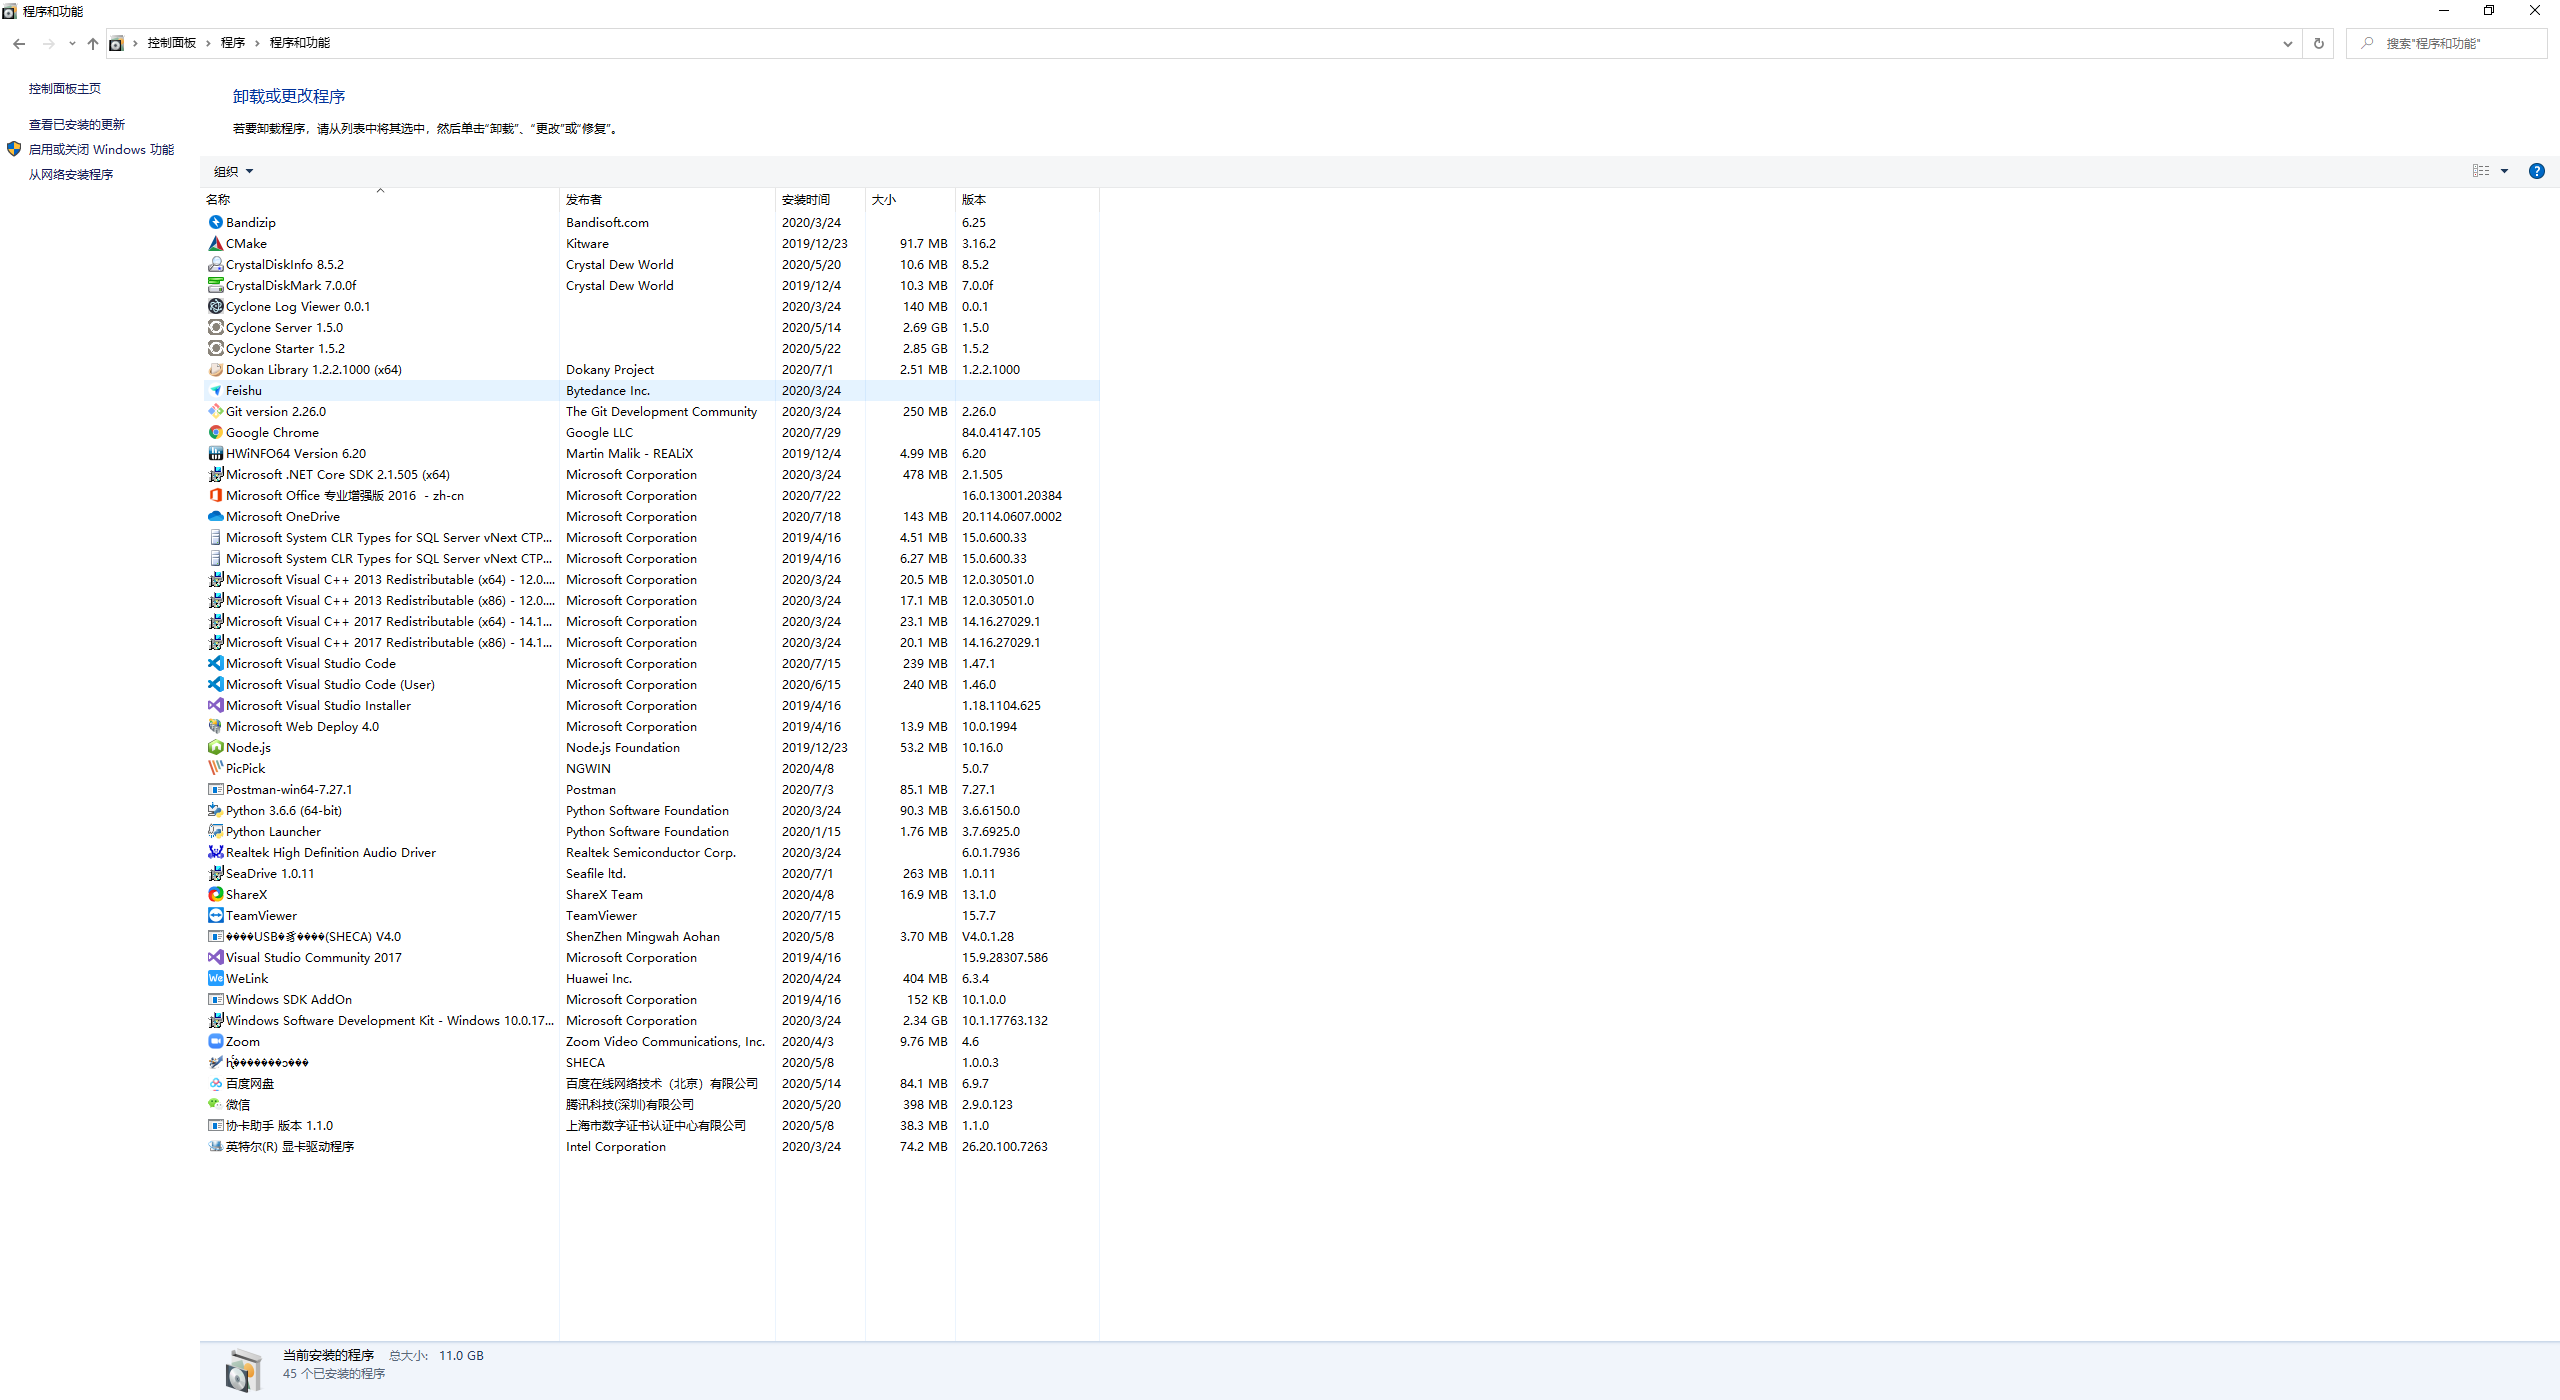character: (231, 121, 621, 138), (226, 634, 557, 650), (226, 1014, 557, 1029), (226, 529, 553, 545), (226, 552, 553, 566), (226, 572, 557, 584), (226, 595, 555, 607), (228, 616, 555, 628), (564, 1034, 769, 1052), (228, 467, 452, 483), (564, 403, 759, 421), (560, 1076, 764, 1091), (226, 655, 400, 672), (226, 847, 440, 860), (226, 490, 465, 502), (226, 362, 407, 378), (565, 1119, 746, 1134), (224, 679, 436, 691), (565, 1010, 698, 1029), (222, 991, 362, 1009), (226, 1138, 365, 1155), (564, 848, 738, 862), (560, 826, 733, 840), (231, 86, 345, 107), (564, 698, 700, 716), (565, 1097, 702, 1114), (564, 803, 733, 817), (228, 278, 362, 295), (564, 572, 698, 590), (228, 298, 376, 314), (564, 657, 710, 672), (559, 952, 705, 967), (226, 698, 414, 710), (560, 931, 722, 945), (226, 929, 409, 941), (562, 488, 703, 503), (564, 531, 705, 547), (224, 719, 383, 733), (224, 952, 405, 964), (564, 467, 703, 483), (564, 678, 700, 693), (564, 552, 698, 567), (564, 593, 698, 609), (226, 257, 347, 274), (226, 1052, 326, 1072), (564, 445, 696, 460), (565, 509, 698, 524), (29, 141, 178, 155), (226, 447, 369, 460), (564, 636, 700, 650), (564, 616, 698, 629), (564, 721, 698, 734), (226, 783, 357, 797), (226, 1117, 341, 1133), (962, 486, 1065, 503), (28, 116, 129, 133), (226, 341, 352, 355), (562, 741, 688, 755), (390, 1348, 490, 1366), (226, 321, 348, 334), (278, 1367, 384, 1383), (226, 403, 333, 419), (562, 993, 698, 1005), (226, 803, 345, 817), (278, 1345, 381, 1360), (226, 824, 326, 840), (960, 424, 1050, 441), (2386, 36, 2484, 52), (560, 214, 659, 229), (565, 259, 676, 272), (565, 278, 676, 291), (226, 510, 347, 522), (565, 886, 650, 903), (960, 510, 1065, 524), (224, 866, 315, 881), (560, 972, 660, 986), (564, 383, 652, 398), (962, 948, 1050, 964), (226, 426, 322, 440), (564, 364, 659, 378), (958, 1014, 1053, 1028), (562, 1141, 669, 1153), (269, 33, 336, 52), (960, 1140, 1052, 1153), (964, 698, 1043, 714), (776, 529, 846, 547), (21, 3, 90, 21), (776, 255, 845, 272), (564, 424, 640, 440), (960, 614, 1045, 628), (777, 507, 843, 524), (565, 909, 646, 922), (779, 447, 843, 464), (562, 867, 633, 883), (777, 424, 848, 440), (26, 81, 105, 95), (777, 1012, 846, 1028), (964, 571, 1041, 584), (28, 169, 116, 181), (226, 909, 302, 922), (960, 636, 1045, 648), (781, 698, 846, 714), (777, 888, 843, 903), (964, 552, 1029, 567), (772, 552, 845, 566), (960, 531, 1033, 545), (781, 298, 845, 314), (779, 1053, 843, 1069), (958, 1095, 1022, 1110), (779, 236, 848, 250), (779, 486, 848, 500), (779, 826, 848, 840), (896, 359, 952, 376), (896, 926, 952, 943), (781, 614, 841, 629), (779, 636, 846, 650), (895, 445, 953, 460), (960, 929, 1019, 945), (781, 845, 846, 859), (779, 971, 845, 984), (960, 803, 1026, 817), (777, 1098, 852, 1110), (145, 34, 197, 52), (896, 779, 948, 797), (562, 236, 619, 252), (777, 572, 841, 586), (783, 657, 846, 671), (958, 824, 1022, 838), (777, 741, 850, 753), (779, 403, 841, 417), (896, 886, 952, 902), (895, 1140, 950, 1155), (958, 719, 1021, 733), (960, 845, 1022, 859), (777, 1140, 848, 1152), (783, 469, 843, 483), (779, 805, 848, 817), (777, 993, 846, 1005), (900, 593, 948, 610), (900, 967, 948, 984), (779, 216, 846, 228), (564, 783, 622, 797), (781, 764, 840, 778), (226, 236, 278, 252), (898, 634, 950, 650), (896, 1074, 948, 1090), (902, 1097, 948, 1114), (896, 1119, 948, 1134), (779, 321, 845, 333), (779, 721, 845, 733), (779, 950, 845, 962), (895, 721, 952, 734), (964, 595, 1040, 605), (783, 191, 833, 207), (898, 253, 948, 269), (781, 910, 845, 922), (224, 1078, 279, 1091), (781, 279, 843, 291), (779, 384, 841, 397), (777, 1034, 840, 1047), (893, 234, 946, 248), (898, 572, 952, 586), (960, 466, 1014, 479), (962, 741, 1015, 755), (958, 993, 1012, 1007), (781, 343, 841, 355), (562, 762, 622, 774), (965, 364, 1026, 376), (226, 216, 278, 229), (900, 507, 952, 521), (902, 678, 953, 691), (896, 866, 948, 879), (779, 929, 838, 941), (777, 679, 845, 690), (777, 1076, 845, 1086), (903, 655, 948, 671), (907, 991, 952, 1007), (900, 278, 950, 291), (898, 1016, 948, 1029), (895, 740, 952, 752), (898, 617, 953, 629), (896, 531, 950, 543), (896, 1036, 950, 1048), (779, 364, 841, 374), (902, 300, 948, 314), (905, 403, 952, 417), (779, 595, 840, 605), (779, 784, 840, 795), (777, 869, 838, 879), (226, 888, 271, 902), (228, 971, 272, 984), (907, 341, 946, 357), (779, 1119, 838, 1129), (226, 741, 276, 753), (564, 1057, 614, 1069), (564, 191, 607, 205), (226, 383, 269, 397), (226, 760, 269, 774), (962, 298, 996, 316), (960, 909, 1003, 922), (960, 1055, 1003, 1069), (898, 805, 946, 817), (893, 553, 948, 564), (958, 783, 1000, 797), (902, 471, 948, 483), (962, 866, 998, 881), (898, 826, 952, 836), (960, 678, 1000, 691), (900, 324, 952, 334), (962, 888, 1000, 902), (958, 236, 1002, 248), (960, 405, 1003, 417), (226, 1036, 267, 1048), (958, 341, 995, 355), (960, 760, 996, 774), (964, 278, 998, 291), (962, 655, 996, 669), (958, 1117, 993, 1131), (958, 259, 996, 271), (958, 971, 991, 984), (958, 447, 995, 459), (958, 191, 990, 205), (960, 1076, 991, 1090), (960, 321, 995, 333), (960, 216, 990, 229), (224, 1098, 253, 1112), (221, 34, 245, 50), (205, 191, 231, 205), (958, 1034, 984, 1048), (210, 166, 238, 178), (869, 193, 896, 205)
icon: (221, 1347, 265, 1395), (107, 33, 126, 52), (203, 379, 222, 398), (9, 34, 28, 53), (207, 864, 226, 883), (207, 276, 226, 293), (207, 338, 226, 355), (207, 317, 226, 334), (83, 34, 102, 52), (207, 695, 224, 714), (207, 571, 226, 588), (207, 969, 226, 986), (207, 297, 224, 314), (207, 253, 224, 271), (40, 34, 57, 52), (2358, 34, 2376, 52), (2310, 34, 2327, 52), (2527, 162, 2544, 179), (205, 717, 222, 734), (207, 466, 224, 483), (207, 653, 224, 671), (207, 948, 224, 966), (207, 1010, 224, 1028), (207, 841, 224, 859), (207, 905, 224, 922), (207, 759, 224, 776), (207, 1116, 224, 1133), (2, 2, 17, 19), (207, 234, 222, 252), (2526, 2, 2543, 17), (2474, 162, 2491, 178), (209, 633, 224, 650), (209, 612, 224, 629), (209, 591, 224, 609), (207, 676, 224, 691), (207, 822, 224, 838), (207, 738, 224, 753), (207, 800, 222, 817), (207, 1033, 224, 1048), (207, 781, 226, 795), (5, 140, 21, 155), (2481, 2, 2496, 17), (2436, 2, 2451, 17), (209, 445, 224, 460), (209, 886, 224, 902), (209, 928, 224, 943), (209, 1053, 224, 1069), (209, 360, 222, 378), (209, 528, 222, 545), (209, 548, 222, 566), (207, 991, 224, 1005), (207, 1138, 224, 1152), (209, 214, 222, 229), (128, 34, 141, 50), (209, 402, 222, 417), (209, 424, 222, 440), (209, 486, 222, 502), (207, 509, 222, 522), (209, 1076, 222, 1091), (66, 36, 79, 50), (2281, 36, 2295, 50), (207, 1097, 222, 1109), (248, 36, 264, 48), (202, 36, 214, 50), (2498, 164, 2510, 176), (243, 166, 257, 176), (376, 184, 384, 195)
